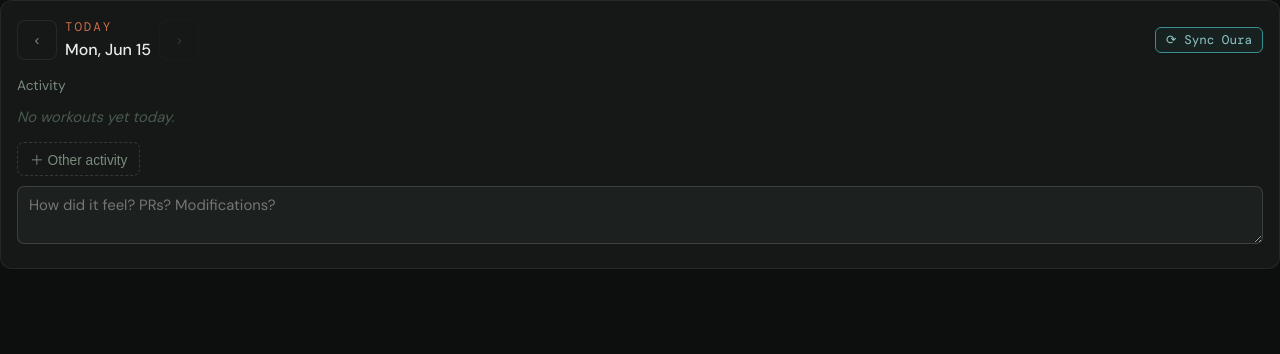
Test: TrainDay › sync button imports Oura workouts into the session list
Step 1. Click the button "⟳ Sync Oura" → [1209, 40], box left=1155, top=27, right=1263, bottom=53
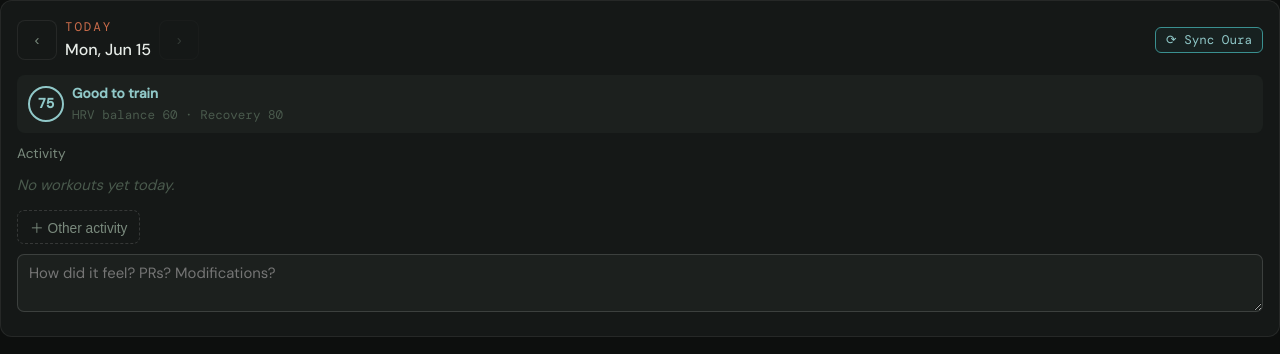
Result: the text "75" is shown at left=28, top=86, right=64, bottom=122
